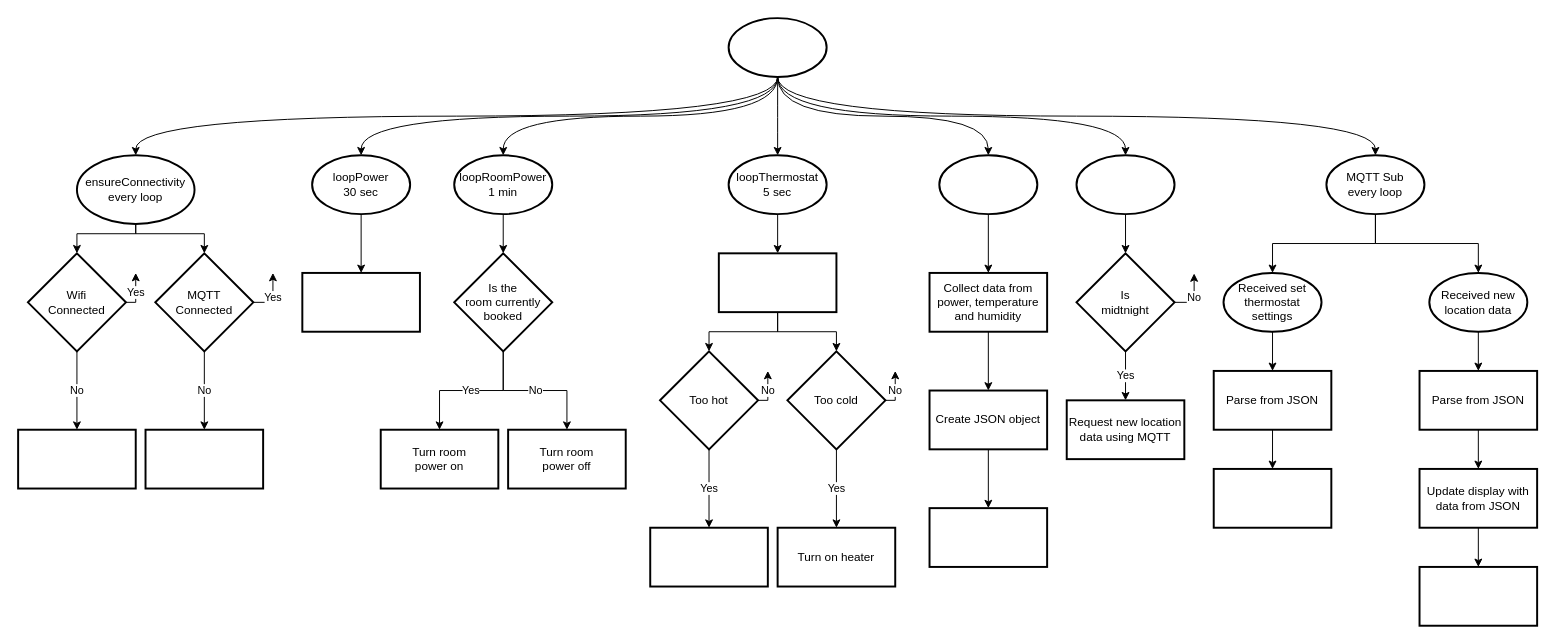
The diagram is 1554 pixels wide and 643 high, and some of its shapes have lost their labels. The centre of each missing label's shape, as x and y in pixels:
"Get thermostat settings" belongs at (x=777, y=282).
"loopDisplay every loop" belongs at (x=1125, y=184).
"loopTelemetry 1 min" belongs at (x=988, y=184).
"Main loop" belongs at (x=777, y=47).
"MQTT publish telemetry" belongs at (x=988, y=537).
"Reconnect MQTT" belongs at (x=204, y=458).
"Reconnect WiFi" belongs at (x=76, y=458).
"Record power usage" belongs at (x=360, y=301).
"set room power settings from JSON" belongs at (x=1478, y=595).
"Set thermostat settings from JSON" belongs at (x=1272, y=497).
"Turn on aircondition" belongs at (x=708, y=556).
